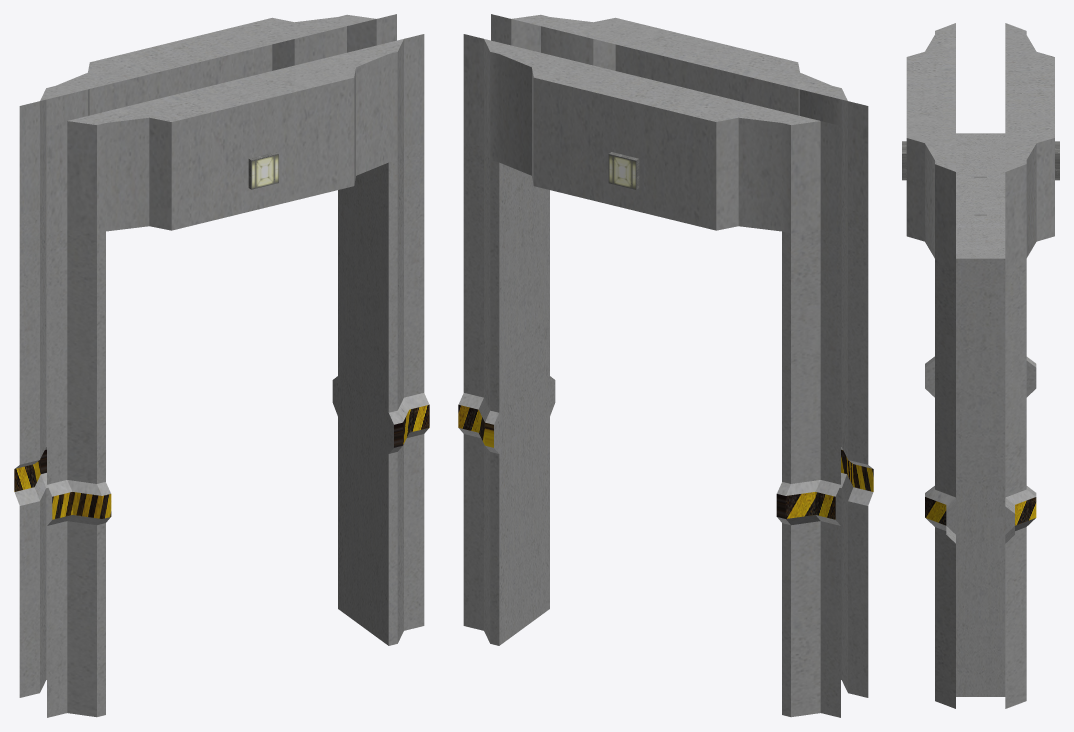
Rendered from Wall_Big_Frame_05m.FBX.
3 renders of one model, left to right at view 1: azimuth 30°, elevation 25°; view 2: azimuth 150°, elevation 25°; view 3: azimuth 270°, elevation 25°, orthographic. The views are drawn at different scales.
Visible parts, largest first — view 1: Wall_Big_Frame_05m_mesh; view 2: Wall_Big_Frame_05m_mesh; view 3: Wall_Big_Frame_05m_mesh.
Part boxes in pixels (x1,y1,x2,y2): Wall_Big_Frame_05m_mesh: [14, 14, 429, 717]; Wall_Big_Frame_05m_mesh: [458, 14, 873, 717]; Wall_Big_Frame_05m_mesh: [902, 23, 1059, 708].
Size of the model in its own units: 400 by 600 by 160.
Materials: 3 (3 with a texture image).
